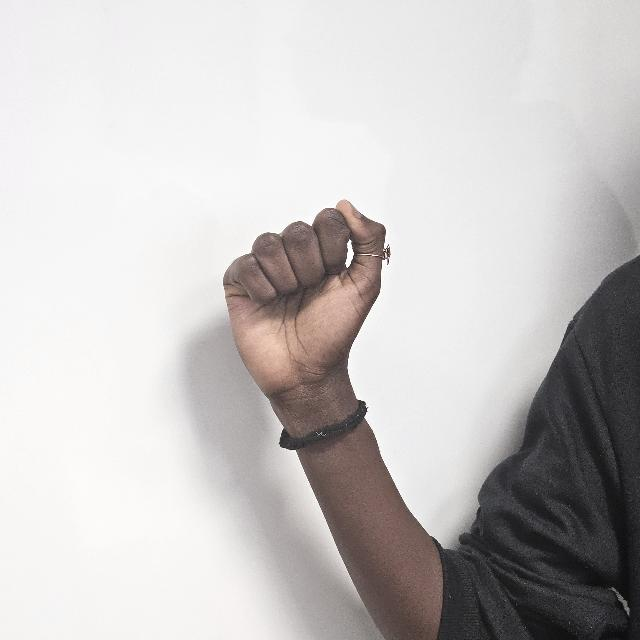Quadro: (220, 198, 388, 404)
